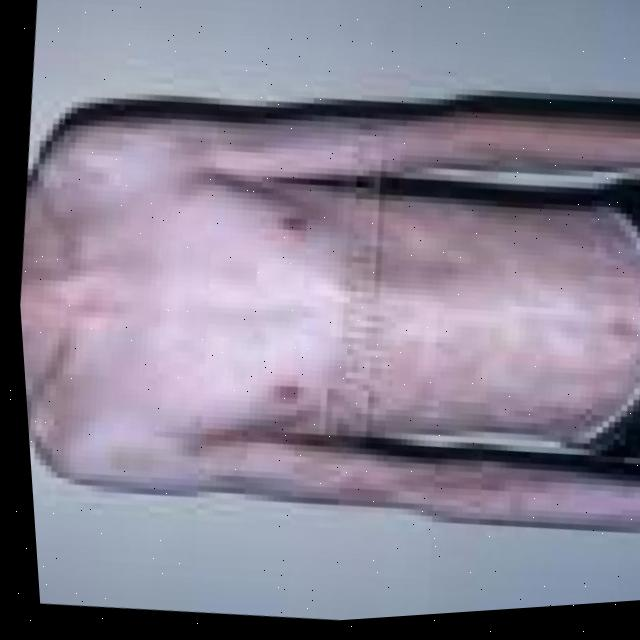Melasma: (282, 433, 543, 541), (397, 89, 640, 200)
